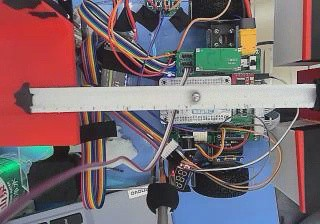ironball: (191, 92, 200, 101)
